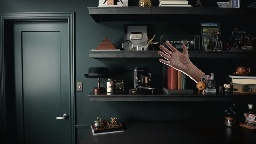Mano_aperta: (156, 39, 190, 72)
